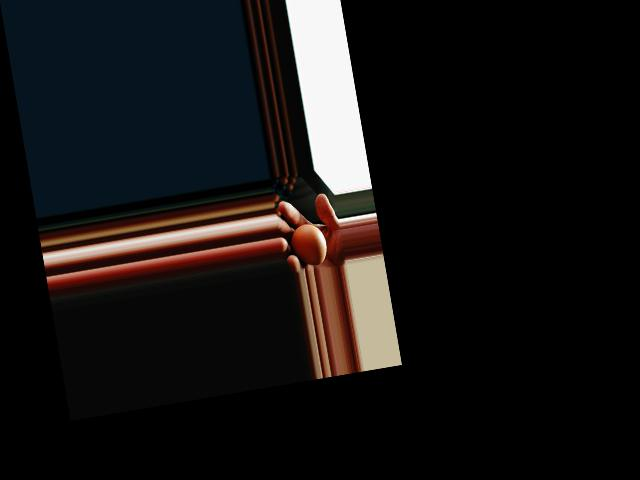egg: (287, 221, 329, 270)
